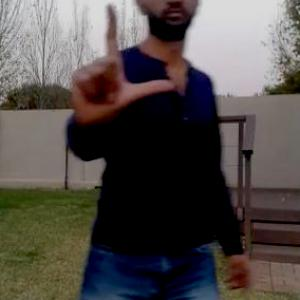land_hand: (59, 0, 181, 133)
